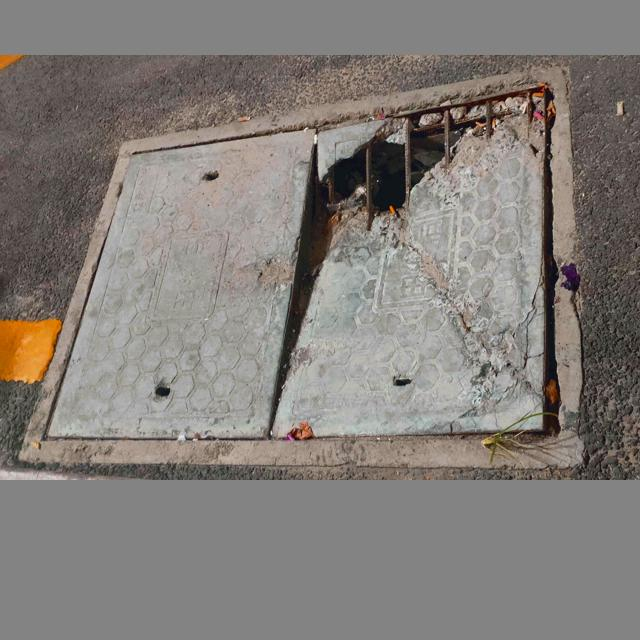broke: (15, 66, 586, 468)
